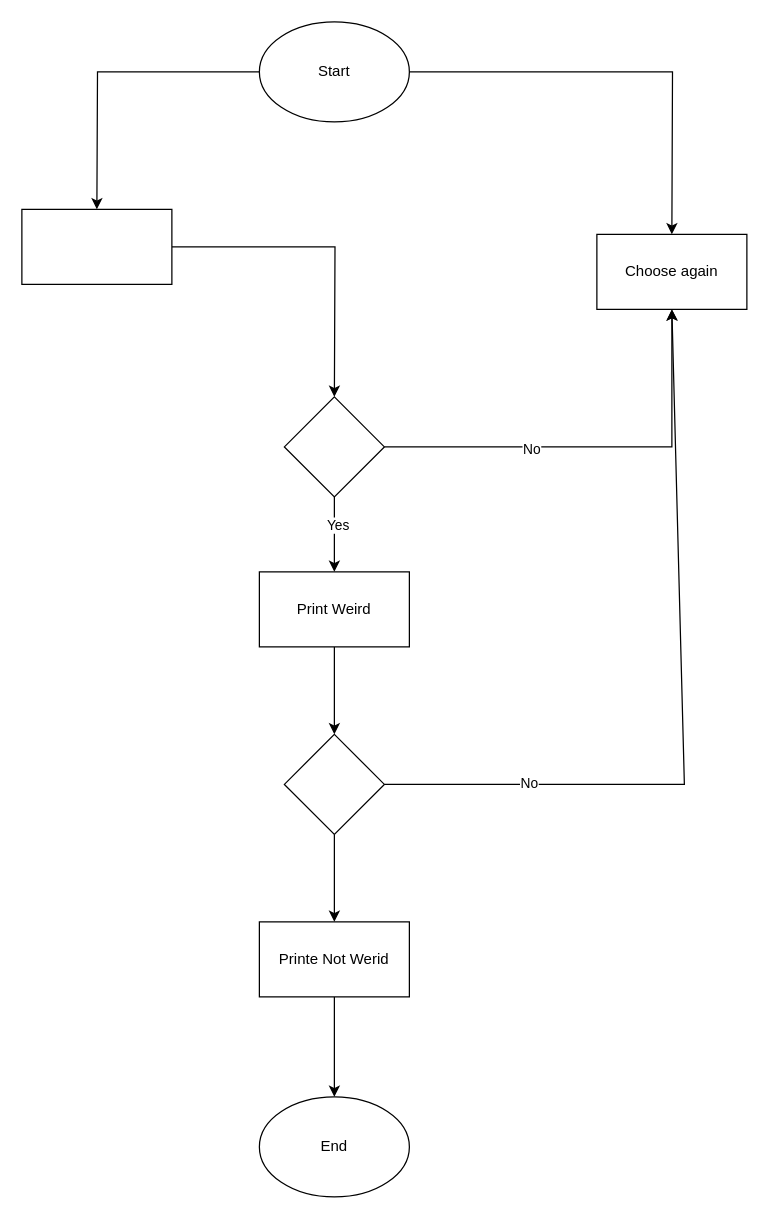
This 769x1219 diagram has some shape labels left out. Here are the shapes that lost their labels. From the top down, the centre of each, then its label:
At (96,246): "Input Number".
At (333,446): "Is number odd or even and inclusive between number 6-10?".
At (333,783): "Is Number even and inclusive between 2 to 5 or > 20 and even?".
